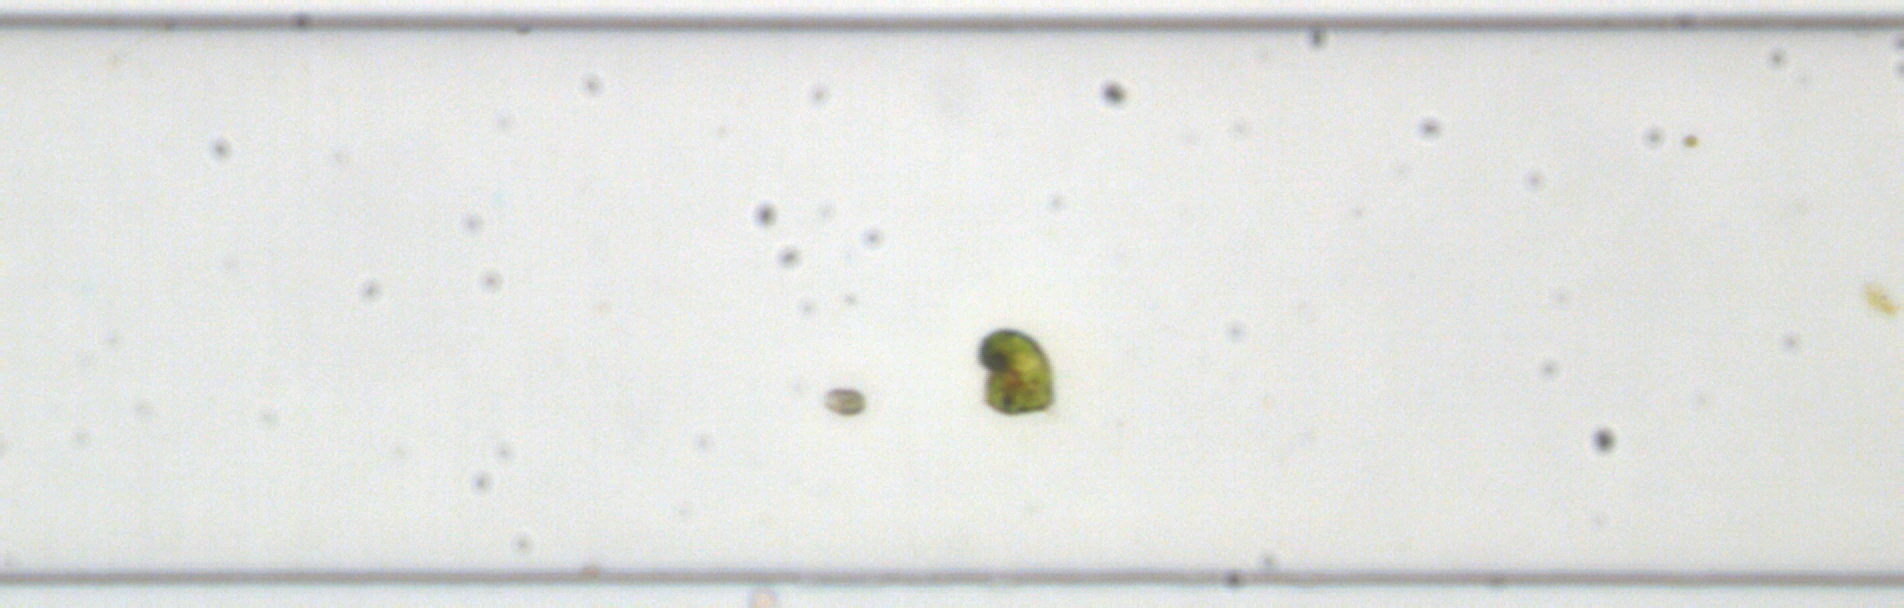Chlorella: (1681, 131, 1698, 148)
Dunaliella salina: (818, 383, 869, 417)
Haematococcus: (971, 324, 1060, 414)
